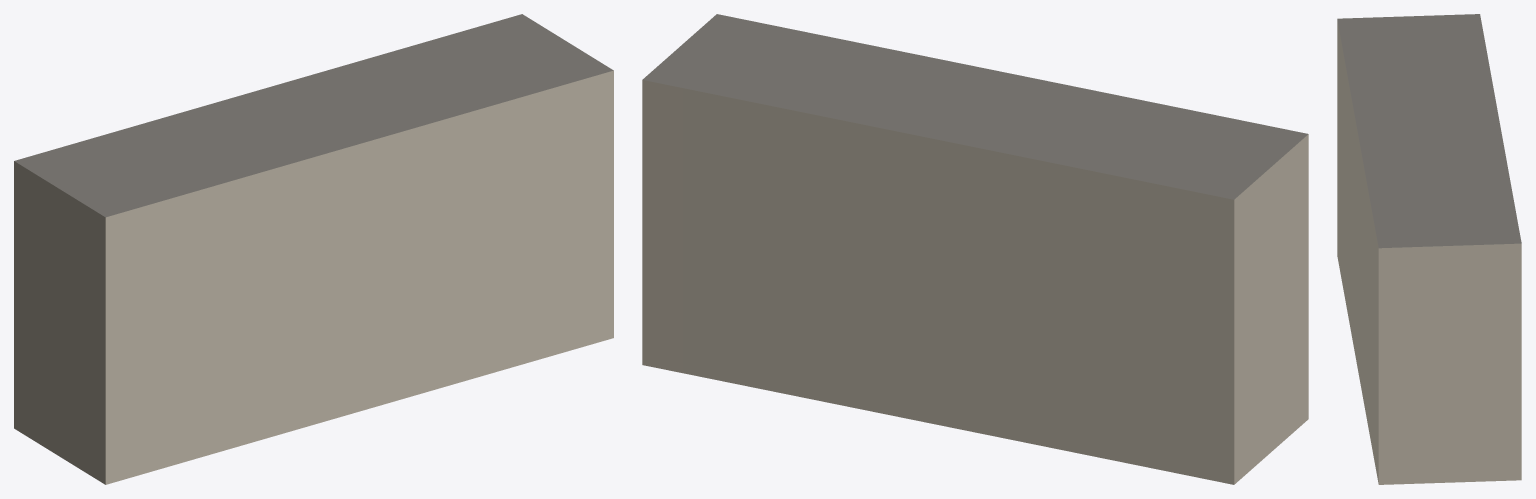
The picture shows the model from 3 angles, left to right: view 1: azimuth 30°, elevation 25°; view 2: azimuth 150°, elevation 25°; view 3: azimuth 270°, elevation 25°; orthographic projection. The views are drawn at different scales.
Parts seen in each view (by area): view 1: HP-w858824311; view 2: HP-w858824311; view 3: HP-w858824311.
Boxes of the visible parts, bbox=[...] form: HP-w858824311: bbox=[14, 14, 613, 484]; HP-w858824311: bbox=[642, 14, 1308, 484]; HP-w858824311: bbox=[1337, 14, 1521, 484].
Size of the model in its own units: 38.2 by 18 by 12.72.
